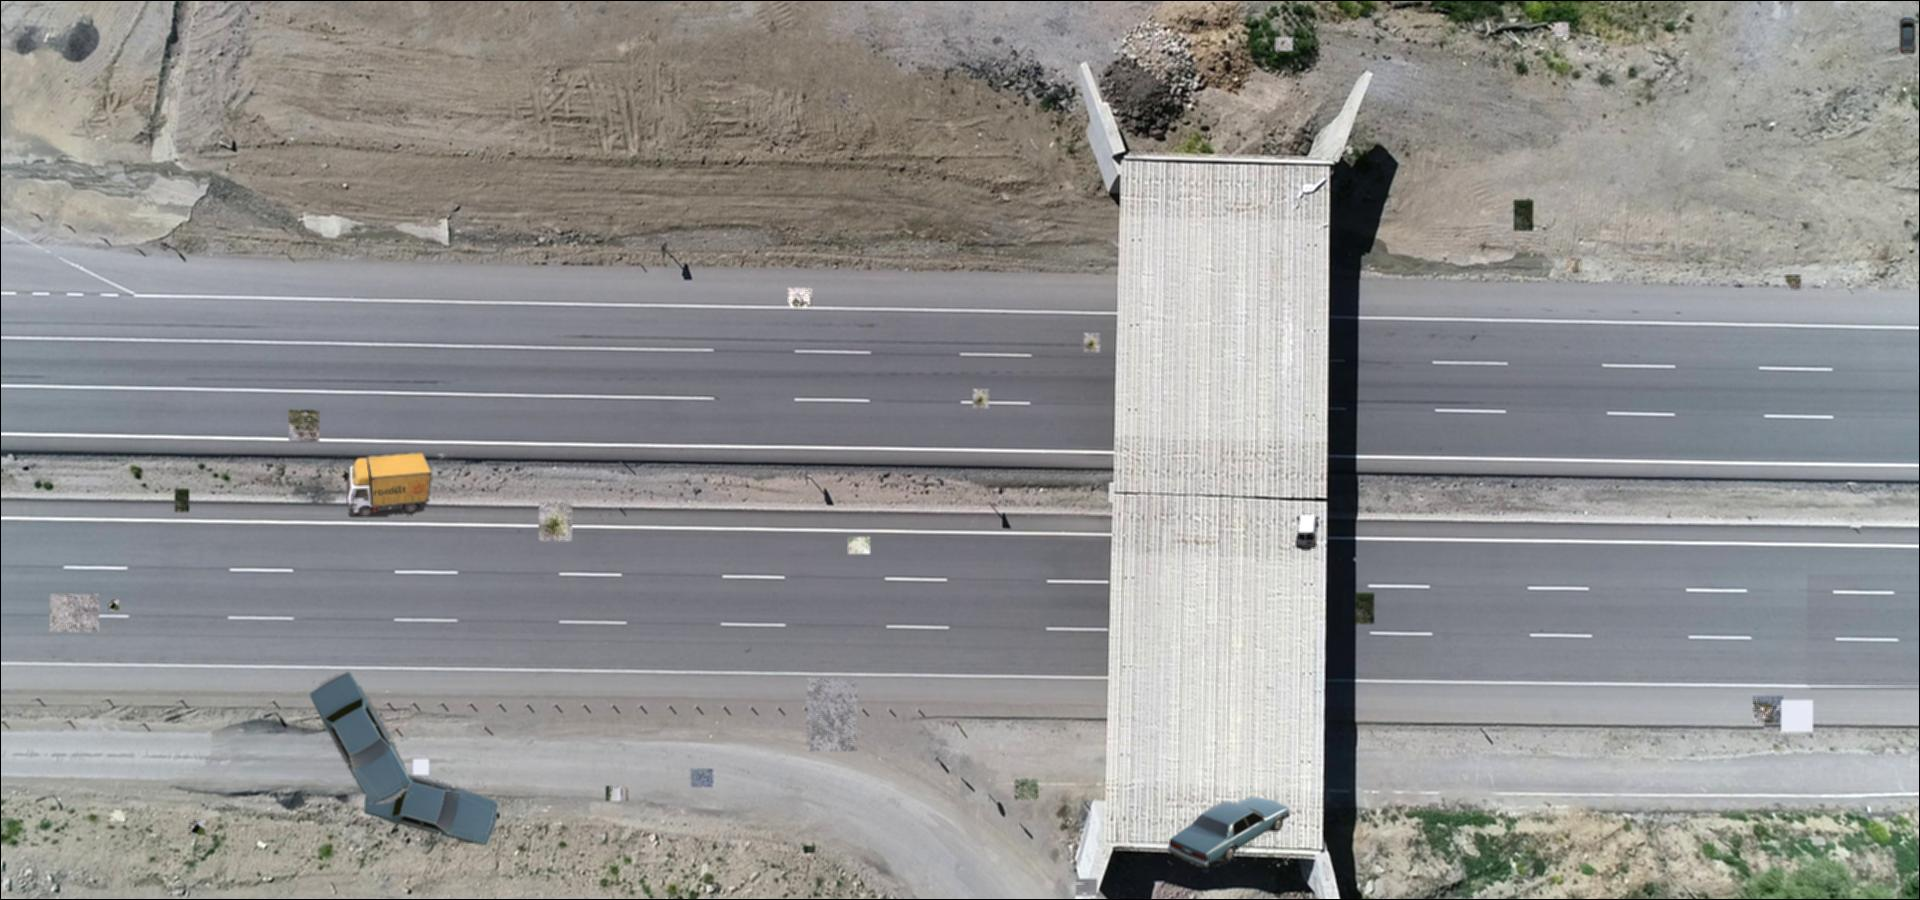arac: (310, 671, 413, 804), (365, 768, 500, 845), (1162, 795, 1292, 867), (343, 453, 432, 517), (1296, 513, 1319, 550), (1898, 18, 1918, 55)
